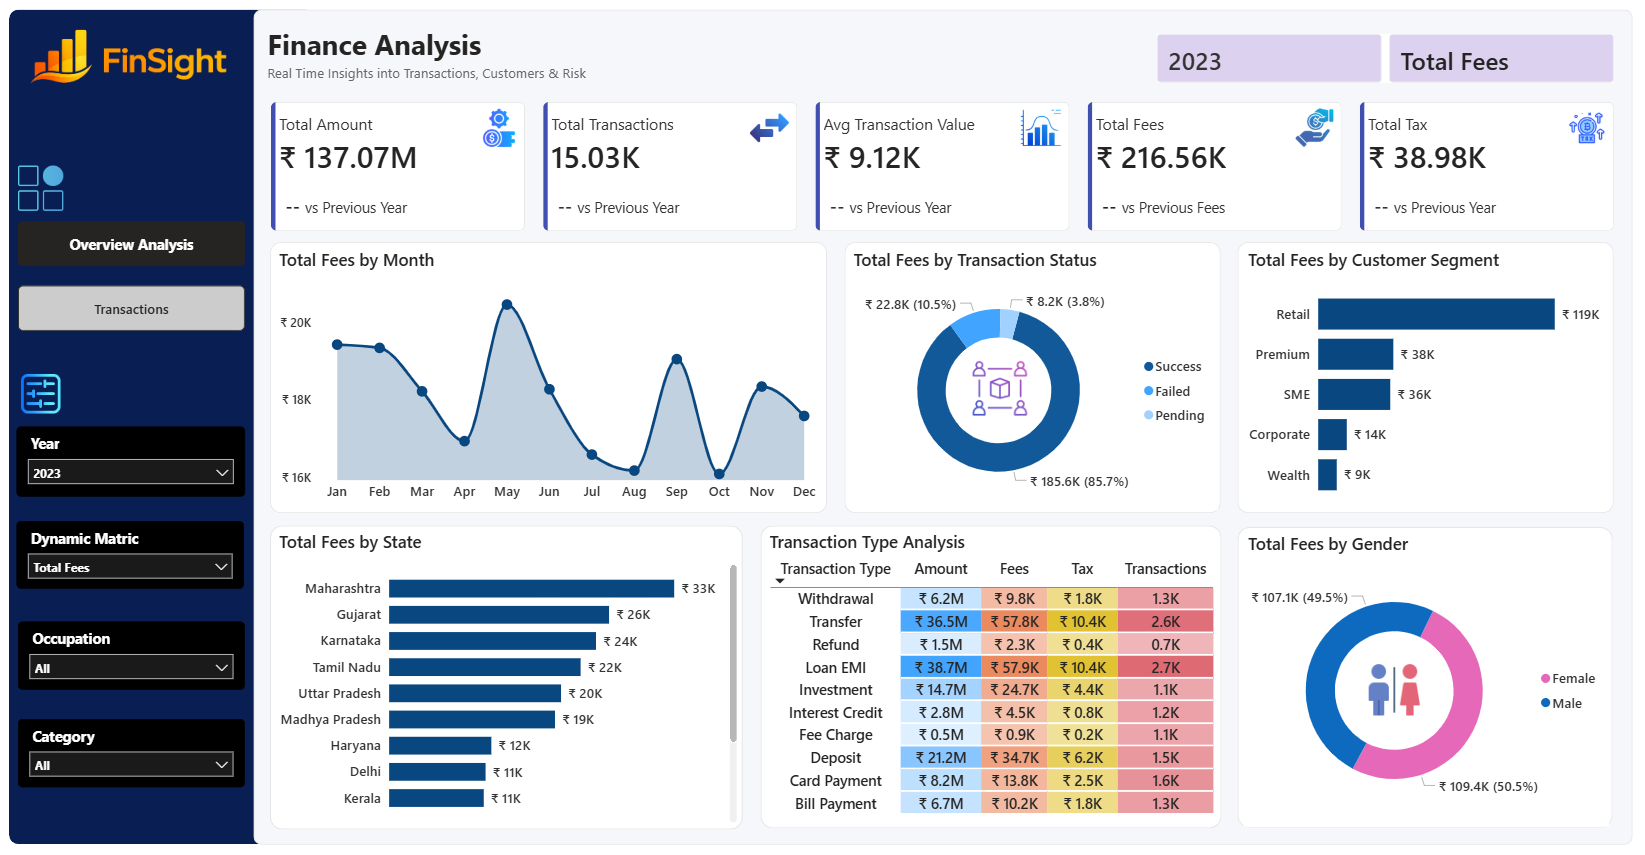

Layout of this report page (visuals, bound fields, positions):
{"tool":"powerbi","page":{"name":"Overview Analysis","canvas":[1820,950],"ordinal":0},"visuals":[{"type":"shape","box":[12.7,14.5,336.8,919.8],"z":0},{"type":"shape","box":[283.3,14.5,1520,920.6],"z":1000},{"type":"image","box":[23.9,23.9,249.7,88.1],"z":2000},{"type":"cardVisual","fields":{"Data":["finance_transactions.Dashboard Title"]},"box":[280.9,14.7,427.8,97.3],"z":3000},{"type":"cardVisual","fields":{"Data":["finance_transactions.Total Amount","finance_transactions.Total Transactions","finance_transactions.Avg Transaction","finance_transactions.Total Fees","finance_transactions.Total Tax"]},"box":[295.6,110.2,1492.6,154.2],"z":4000},{"type":"slicer","fields":{"Values":["Calender Table.Year"]},"box":[21.5,473.7,251.9,77.5],"z":5000},{"type":"image","box":[532.4,123,42.2,45.9],"z":6000},{"type":"image","box":[828,123,45.9,45.9],"z":7000},{"type":"image","box":[1127.3,123,45.9,45.9],"z":8000},{"type":"image","box":[1430.2,123,44.1,45.9],"z":9000},{"type":"image","box":[1729.4,123,45.9,45.9],"z":10000},{"type":"slicer","fields":{"Values":["Dynamic Matric.Dynamic Matric"]},"box":[21.8,579.2,250.6,74.4],"z":11000},{"type":"shape","box":[300.6,271.6,613.8,298.8],"z":12000},{"type":"areaChart","fields":{"Y":["finance_transactions.Total Fees"],"Category":["Calender Table.Month"]},"box":[305.7,277.7,607.1,288.5],"z":13000},{"type":"cardVisual","fields":{"Data":["finance_transactions.Selected Year","finance_transactions.Selected Dynamic Measure"]},"box":[1272.3,36.7,515.9,64.3],"z":14000},{"type":"shape","box":[934.3,271.6,414.7,298.8],"z":15000},{"type":"shape","box":[1367.1,271.6,414.7,298.8],"z":16000},{"type":"donutChart","fields":{"Y":["finance_transactions.Total Fees"],"Category":["finance_transactions.transaction_status"]},"box":[938.7,277.7,406.9,288.5],"z":17000},{"type":"barChart","fields":{"Y":["finance_transactions.Total Fees"],"Category":["customers.customer_segment"]},"box":[1373.6,277.7,404.8,290.7],"z":18000},{"type":"shape","box":[301.4,583.5,521,335],"z":19000},{"type":"barChart","fields":{"Y":["finance_transactions.Total Fees"],"Category":["customers.state"]},"box":[305.7,587.8,514.6,327.3],"z":20000},{"type":"shape","box":[841.8,583.5,508,333.7],"z":21000},{"type":"tableEx","title":"Transaction Type Analysis","fields":{"Values":["finance_transactions.transaction_type","finance_transactions.Total Amount","finance_transactions.Total Fees","finance_transactions.Total Tax","finance_transactions.Total Transactions"]},"box":[846.1,587.8,499.5,325.1],"z":22000},{"type":"shape","box":[1367.2,585.6,413.4,331.6],"z":23000},{"type":"donutChart","fields":{"Y":["finance_transactions.Total Fees"],"Category":["customers.gender"]},"box":[1373.6,589.9,402.6,325.1],"z":24000},{"type":"image","box":[1072.2,400.5,64.6,64.6],"z":25000},{"type":"image","box":[1507.1,732,64.6,64.6],"z":26000},{"type":"slicer","fields":{"Values":["customers.occupation"]},"box":[23.7,689,249.7,75.4],"z":27000},{"type":"slicer","fields":{"Values":["finance_transactions.merchant_category"]},"box":[23.7,796.6,249.7,75.4],"z":28000},{"type":"image","box":[23.3,186.7,50,50],"z":29001},{"type":"image","box":[23.3,413.3,50,50],"z":29002},{"type":"pageNavigator","box":[23.7,247.6,250,50],"z":29003},{"type":"pageNavigator","box":[23.7,318.6,250,50],"z":29004}]}

Visuals, with their boxes on the page's 1820x950 design canvas (x1, y1, x2, y2). These are canvas units, not pixel positions in the 1645x855 screenshot, which may show the page scaled, cropped or inside an application window:
shape: (13,14,350,934)
shape: (283,14,1803,935)
image: (24,24,274,112)
cardVisual - finance_transactions.Dashboard Title: (281,15,709,112)
cardVisual - finance_transactions.Total Amount x finance_transactions.Total Transactions: (296,110,1788,264)
slicer - Calender Table.Year: (22,474,273,551)
image: (532,123,575,169)
image: (828,123,874,169)
image: (1127,123,1173,169)
image: (1430,123,1474,169)
image: (1729,123,1775,169)
slicer - Dynamic Matric.Dynamic Matric: (22,579,272,654)
shape: (301,272,914,570)
areaChart - finance_transactions.Total Fees x Calender Table.Month: (306,278,913,566)
cardVisual - finance_transactions.Selected Year x finance_transactions.Selected Dynamic Measure: (1272,37,1788,101)
shape: (934,272,1349,570)
shape: (1367,272,1782,570)
donutChart - finance_transactions.Total Fees x finance_transactions.transaction_status: (939,278,1346,566)
barChart - finance_transactions.Total Fees x customers.customer_segment: (1374,278,1778,568)
shape: (301,584,822,918)
barChart - finance_transactions.Total Fees x customers.state: (306,588,820,915)
shape: (842,584,1350,917)
"Transaction Type Analysis" tableEx: (846,588,1346,913)
shape: (1367,586,1781,917)
donutChart - finance_transactions.Total Fees x customers.gender: (1374,590,1776,915)
image: (1072,400,1137,465)
image: (1507,732,1572,797)
slicer - customers.occupation: (24,689,273,764)
slicer - finance_transactions.merchant_category: (24,797,273,872)
image: (23,187,73,237)
image: (23,413,73,463)
pageNavigator: (24,248,274,298)
pageNavigator: (24,319,274,369)
